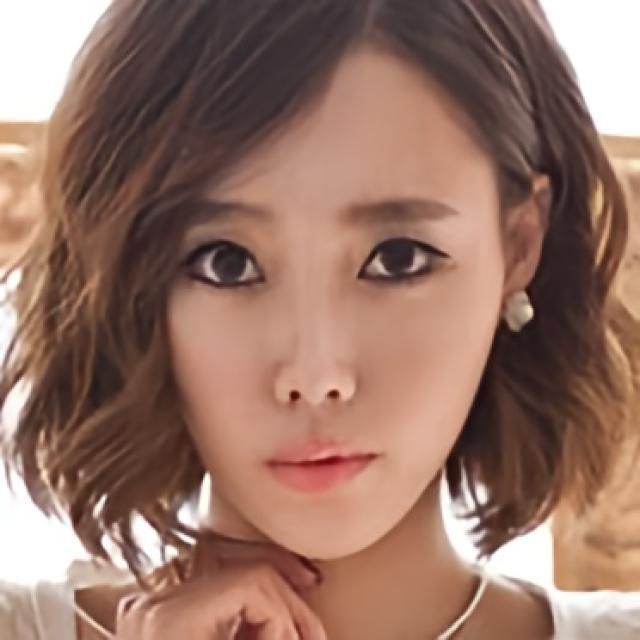neutral: (163, 30, 502, 552)
